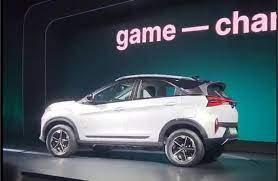Tata Nexon: (37, 73, 240, 169)
